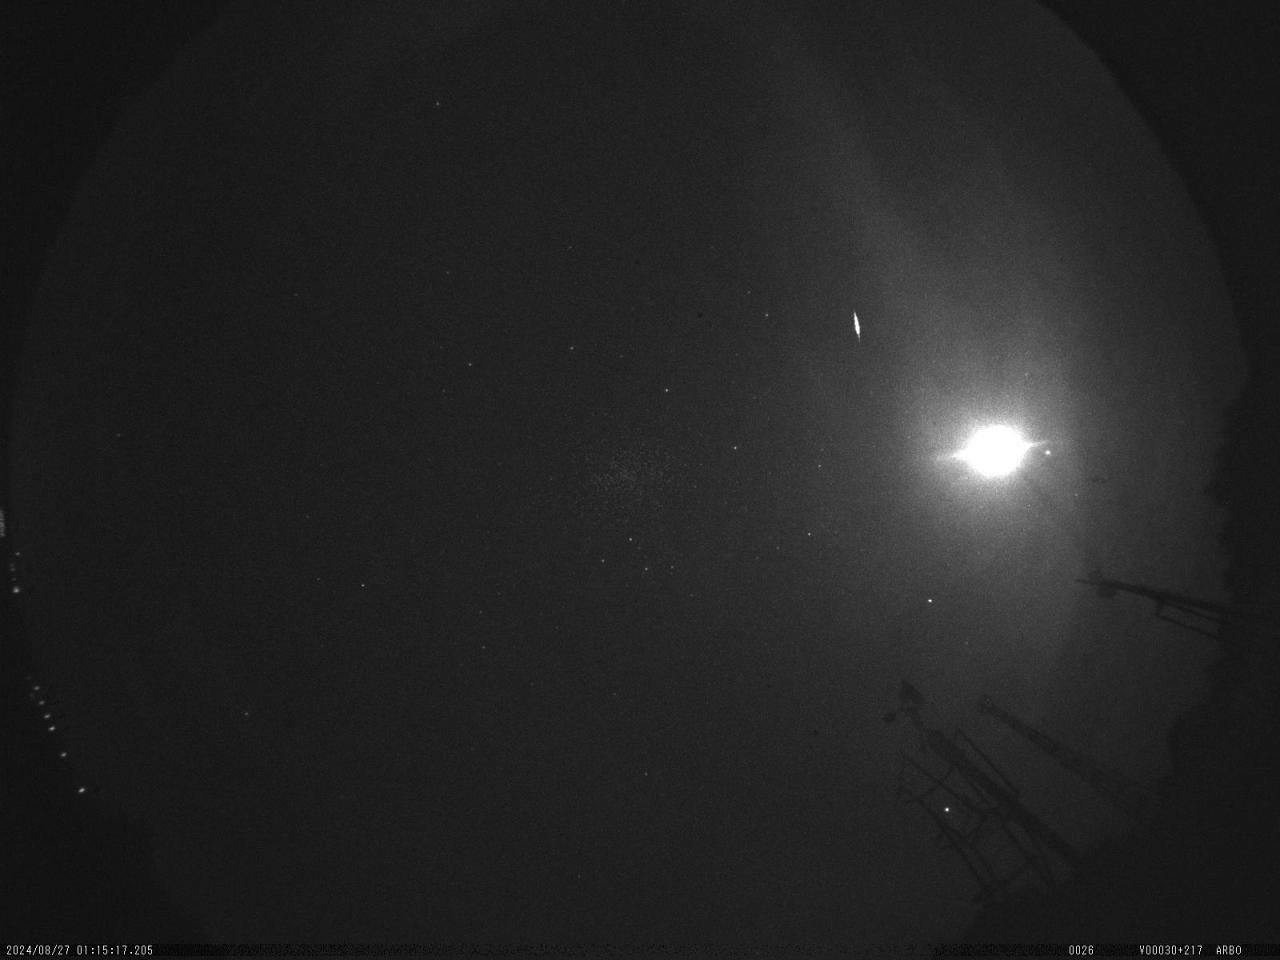Meteor: (850, 307, 864, 342)
